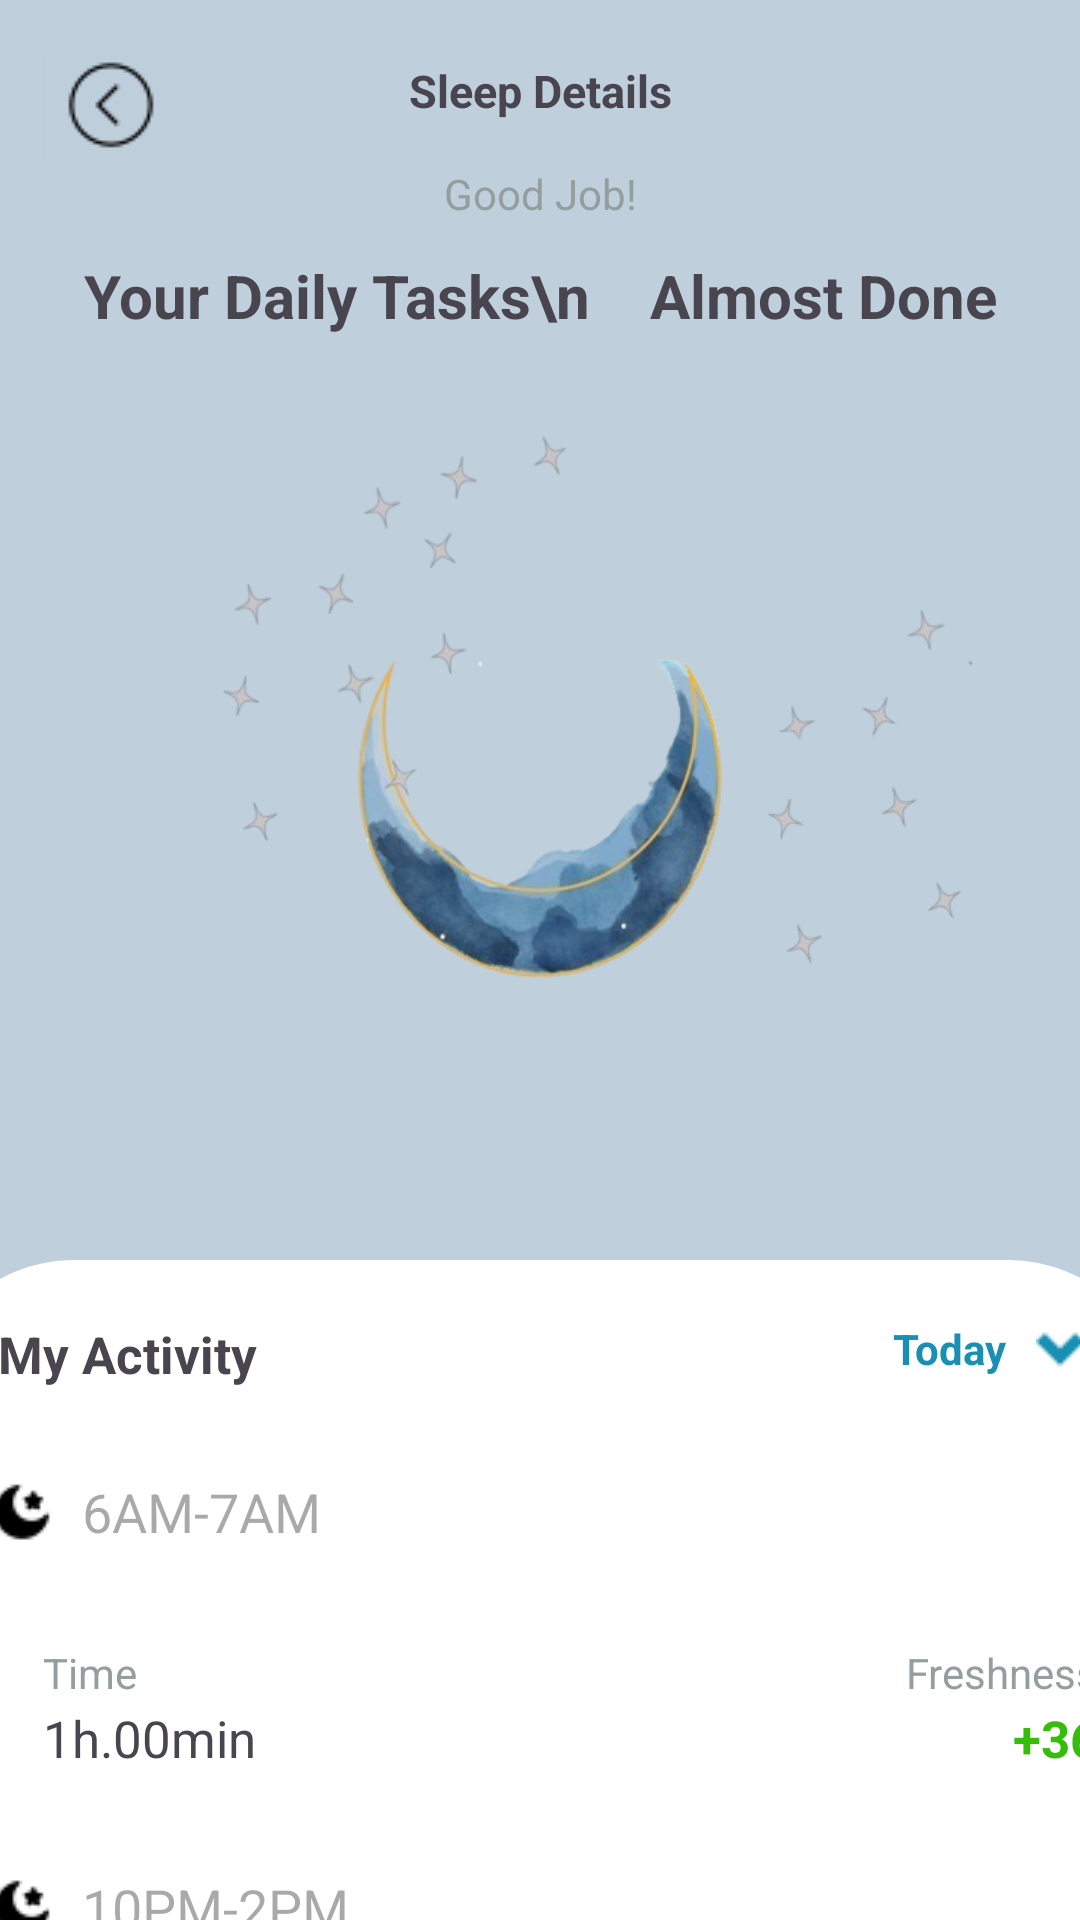

Icon click points for this 1080px x 1920px phone screenshot, format point (x, y):
Go back: point (111, 105)
